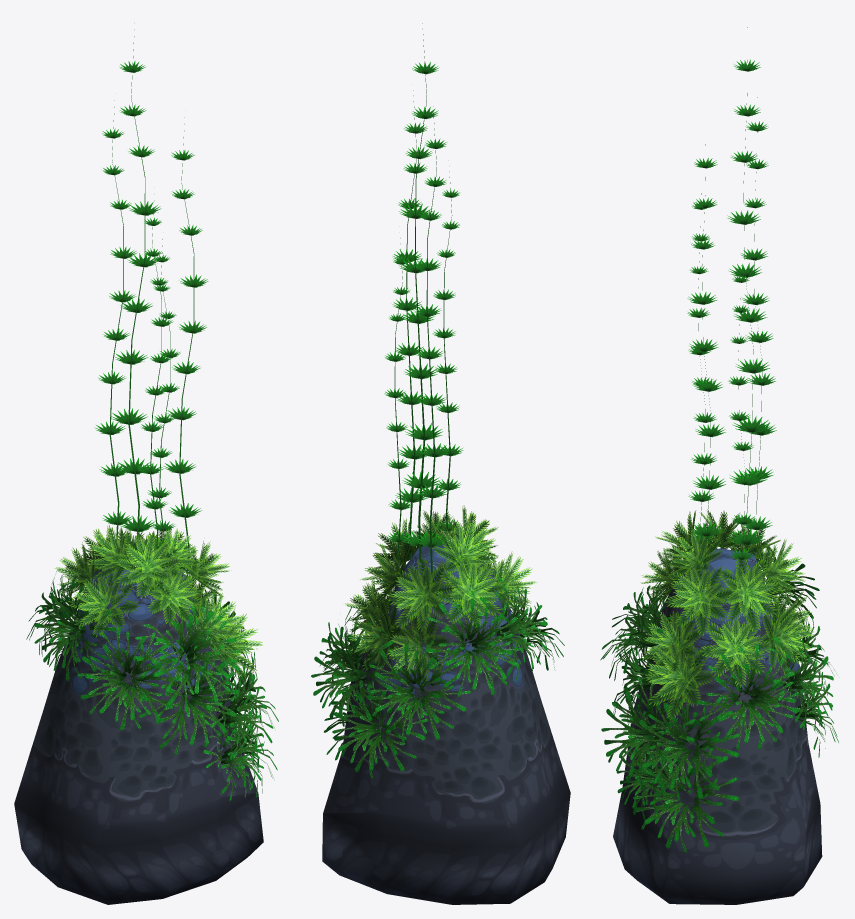
File: CoralSet_01.FBX
3 renders of one model, left to right at view 1: azimuth 30°, elevation 25°; view 2: azimuth 150°, elevation 25°; view 3: azimuth 270°, elevation 25°, orthographic. The views are drawn at different scales.
Visible parts, largest first — view 1: Box022, Plane365, CoralSet_01, Plane350; view 2: Box022, Plane365, CoralSet_01, Plane350; view 3: Box022, Plane365, CoralSet_01, Plane350.
Boxes of the visible parts, x1,y1,x2,y2 form: Box022: (14, 544, 263, 904); Plane365: (26, 568, 278, 800); CoralSet_01: (54, 525, 262, 678); Plane350: (94, 29, 208, 576); Box022: (322, 542, 570, 904); Plane365: (311, 564, 564, 778); CoralSet_01: (345, 505, 537, 684); Plane350: (384, 23, 463, 582); Box022: (613, 548, 822, 904); Plane365: (600, 544, 838, 852); CoralSet_01: (640, 509, 813, 720); Plane350: (687, 27, 776, 589).
Bounding box in the file's own units: 13082 × 46764 × 12011.
